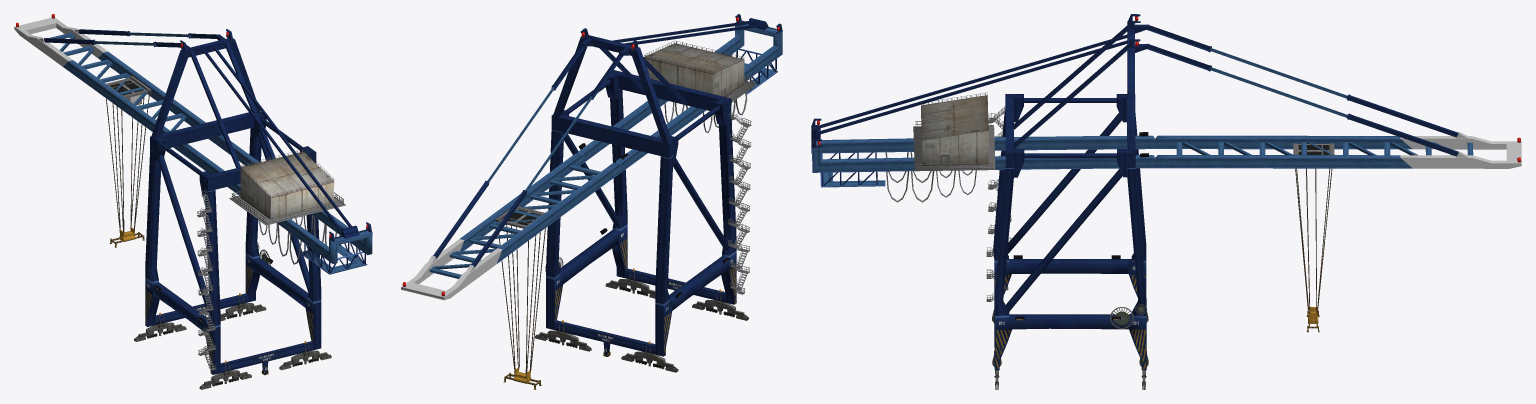
The model's file is 01_port_crane.fbx.
The picture shows the model from 3 angles, left to right: view 1: azimuth 30°, elevation 25°; view 2: azimuth 150°, elevation 25°; view 3: azimuth 270°, elevation 25°; orthographic projection. The views are drawn at different scales.
Visible parts, largest first — view 1: Body, Parts_proops, Ladder, Chassis, Arm, Parts_cables, Room; view 2: Body, Parts_proops, Ladder, Chassis, Arm, Parts_cables, Room, Lift; view 3: Body, Parts_proops, Arm, Ladder, Parts_cables.
Boxes of the visible parts, box(x1,y1,x2,y2) form: Body: box(44, 29, 372, 375); Parts_proops: box(194, 151, 345, 365); Ladder: box(197, 149, 343, 370); Chassis: box(134, 295, 331, 389); Arm: box(14, 17, 107, 66); Parts_cables: box(106, 94, 149, 232); Room: box(106, 75, 151, 98); Body: box(429, 14, 782, 356); Parts_proops: box(589, 43, 756, 346); Ladder: box(545, 41, 754, 294); Chassis: box(535, 271, 748, 372); Arm: box(401, 239, 502, 300); Parts_cables: box(498, 225, 545, 373); Room: box(495, 205, 544, 228); Lift: box(503, 367, 541, 389); Body: box(811, 14, 1473, 370); Parts_proops: box(885, 95, 995, 347); Arm: box(1400, 132, 1521, 168); Ladder: box(915, 92, 1146, 328); Parts_cables: box(1295, 168, 1332, 313).
Size of the model in its own units: 194 by 413 by 810.
